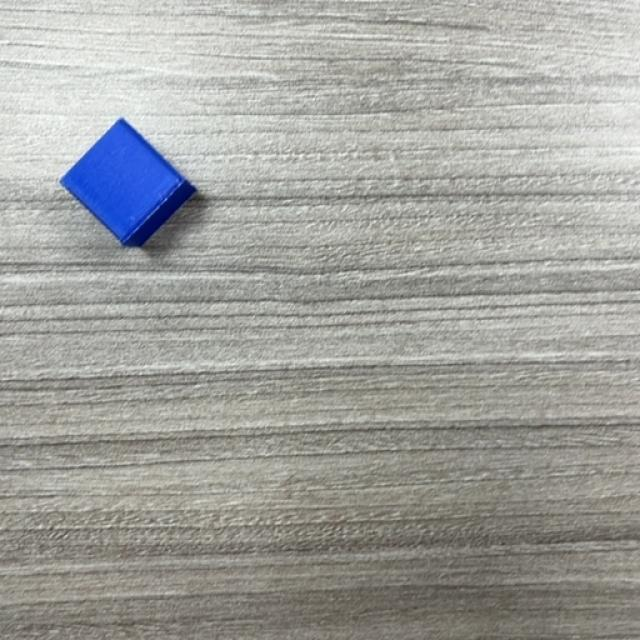Azul: (59, 119, 198, 249)
